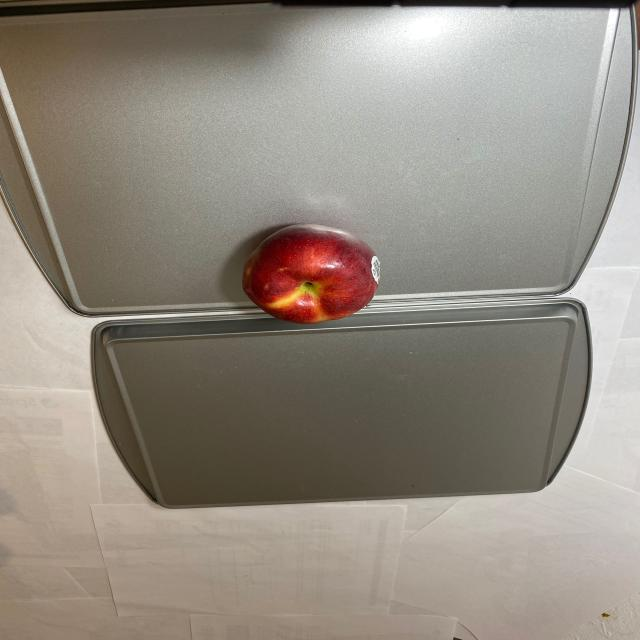apple: (236, 228, 380, 325)
